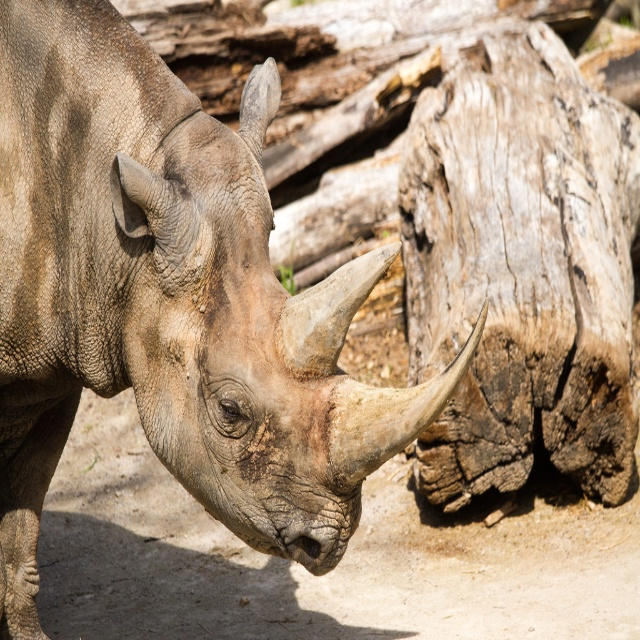Rhinoceros: (0, 0, 493, 639)
